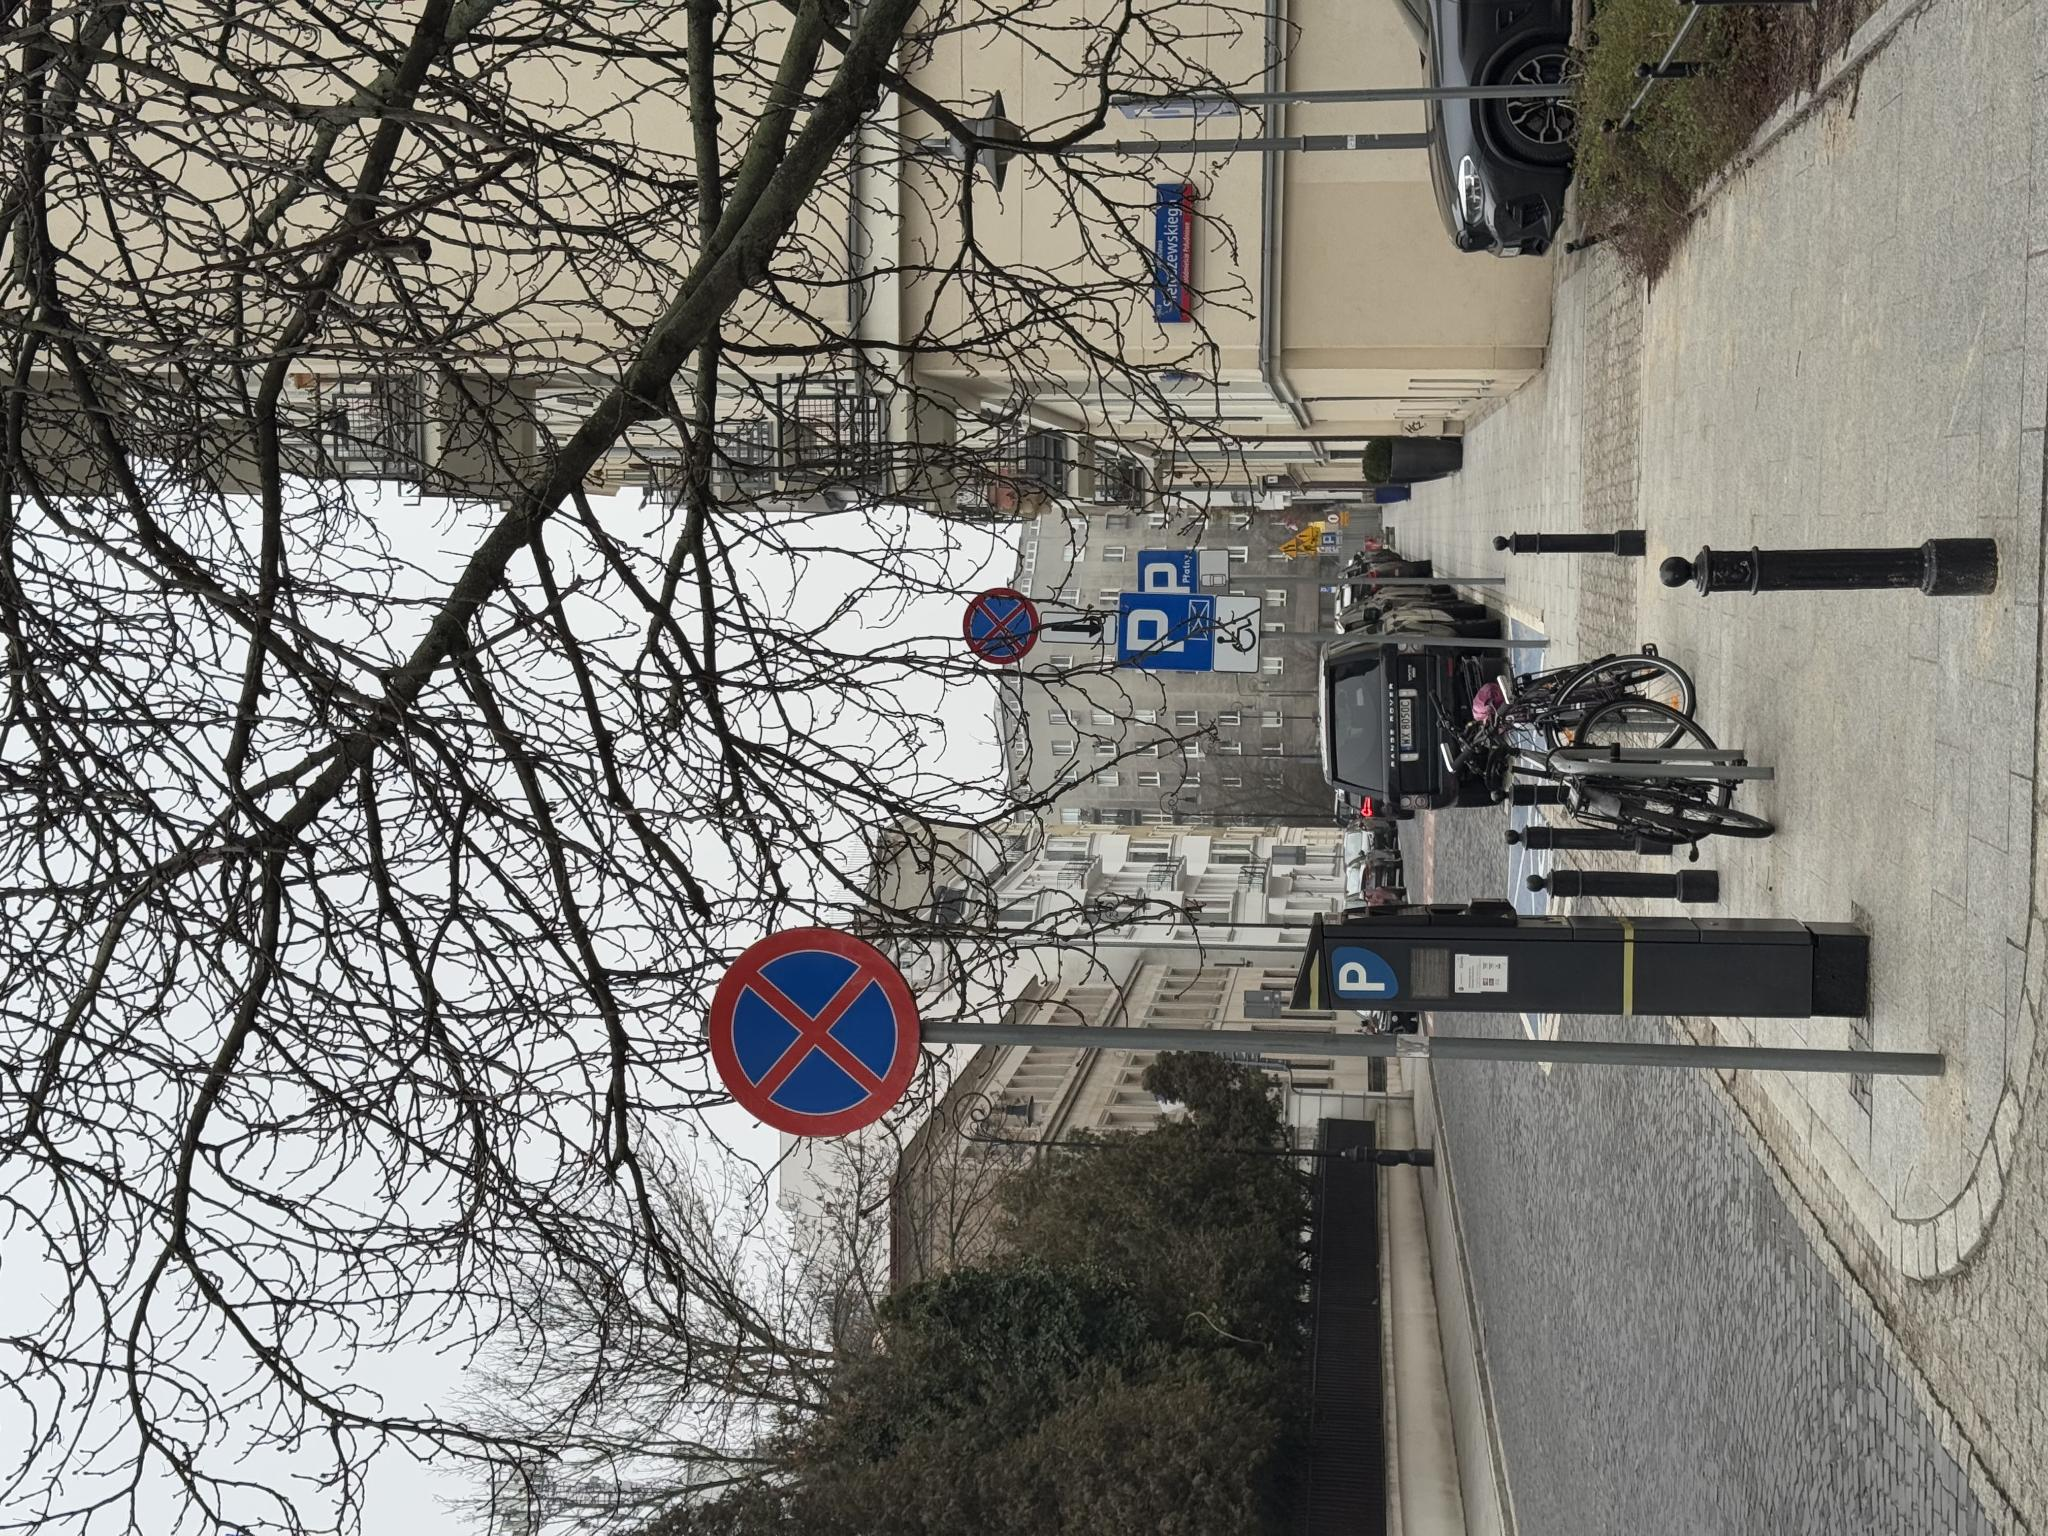information: (864, 1117, 942, 1213), (942, 1136, 987, 1197)
other: (861, 1213, 942, 1260), (893, 1041, 924, 1117), (942, 1199, 989, 1228)
prohibitory: (397, 705, 610, 921), (872, 962, 950, 1041)
warning: (977, 1278, 998, 1297), (979, 1297, 998, 1317)
